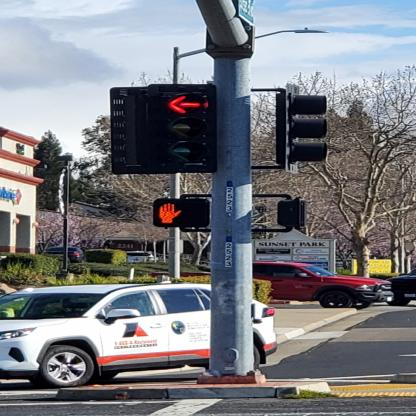left-red: (155, 85, 219, 173)
